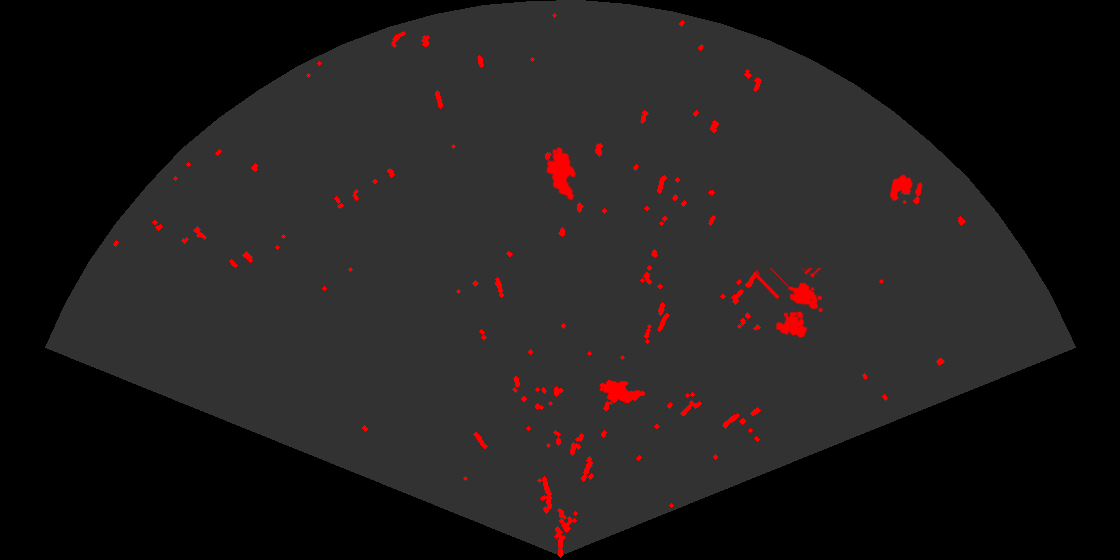AUV: (545, 145, 578, 202), (598, 378, 647, 404)
ball: (888, 173, 924, 206)
cage: (755, 268, 825, 339)
